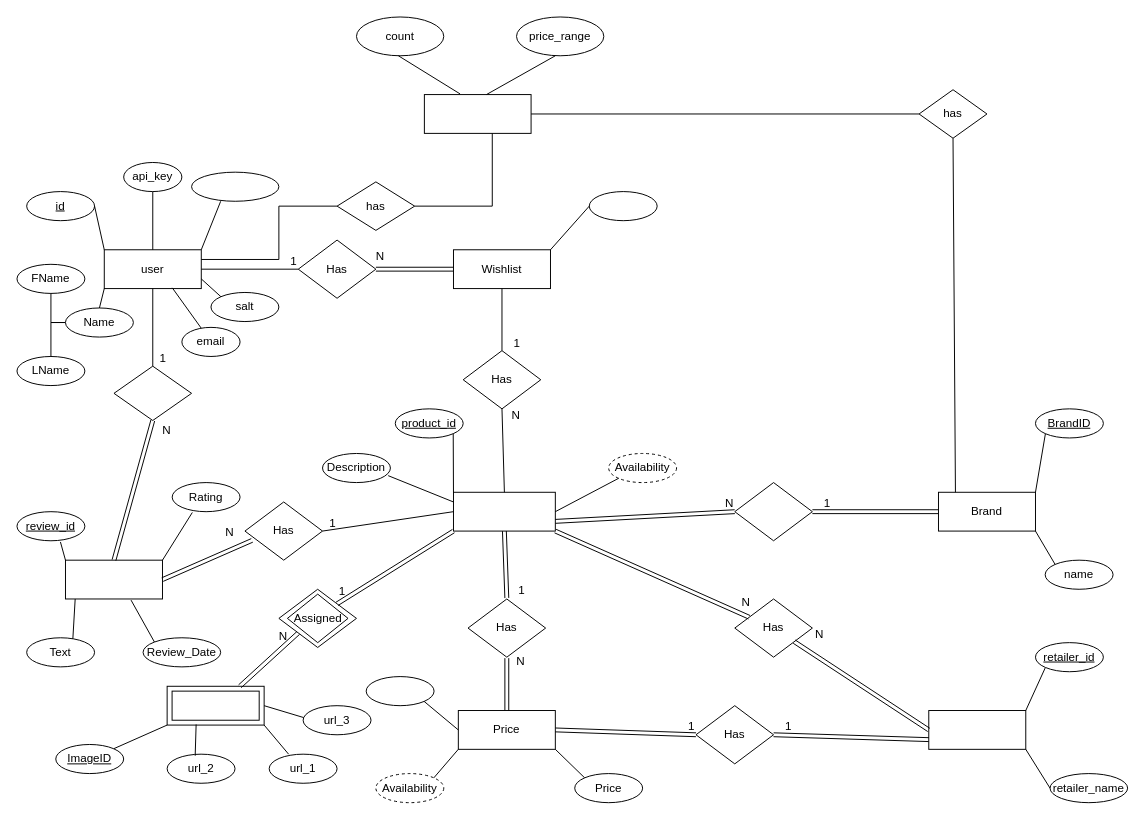
Image size: 1145x820. Some labels were removed from this diagram. Each missing label, with the centre of its shape:
Added_at: the point at 622,206
BelongsTo: the point at 773,511
image: the point at 215,705
Makes: the point at 152,392
Password: the point at 235,186
PriceID: the point at 399,691
Product: the point at 504,511
Retailer: the point at 977,729
Review: the point at 113,579
users_preferences: the point at 477,113
